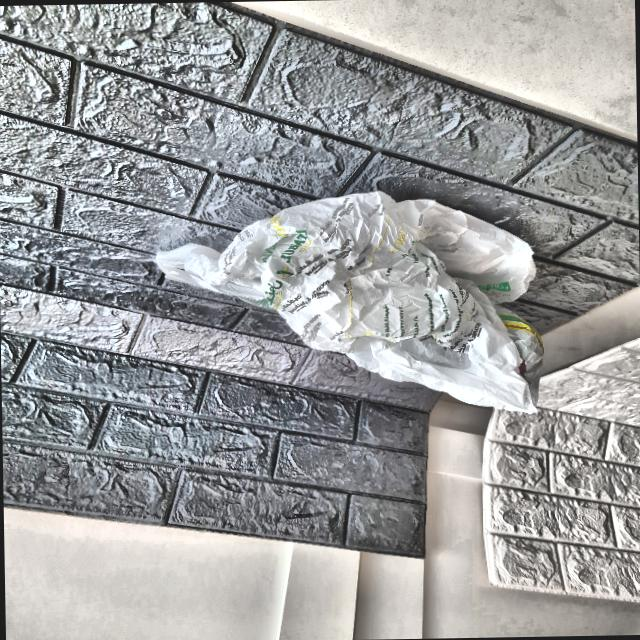plastic bag: (155, 198, 559, 424)
